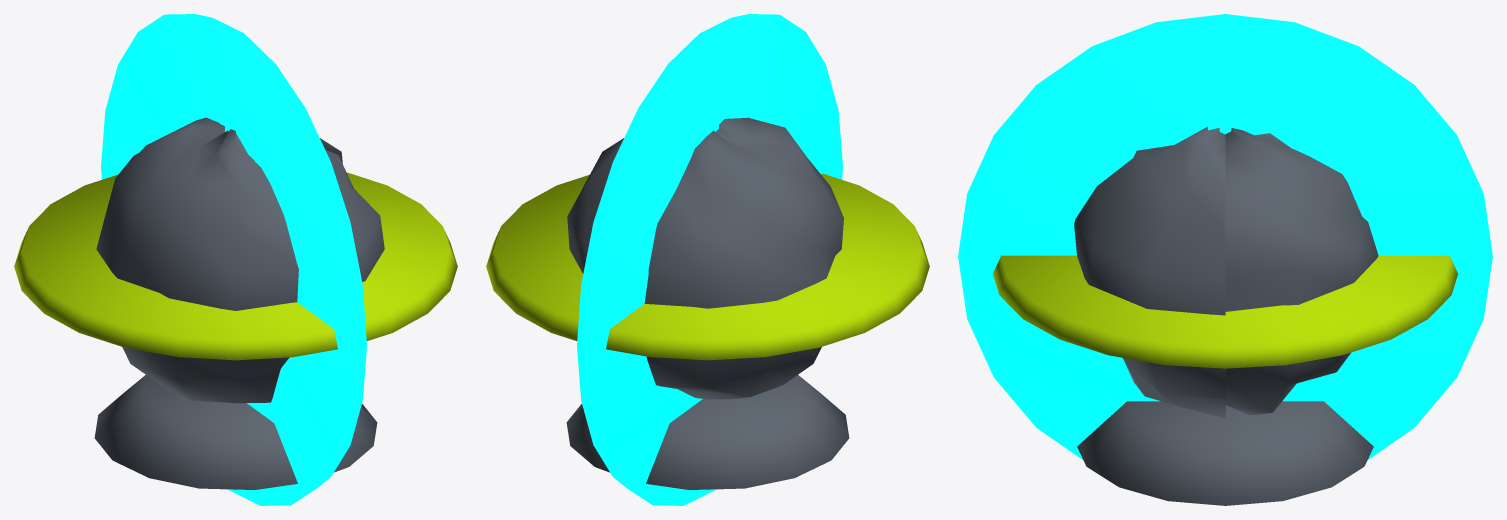
The picture shows the model from 3 angles, left to right: view 1: azimuth 30°, elevation 25°; view 2: azimuth 150°, elevation 25°; view 3: azimuth 270°, elevation 25°; orthographic projection. The views are drawn at different scales.
Visible parts, largest first — view 1: GeneratedObject3D; view 2: GeneratedObject3D; view 3: GeneratedObject3D.
Part boxes in pixels (x1,y1,x2,y2): GeneratedObject3D: [14, 14, 457, 505]; GeneratedObject3D: [486, 14, 929, 505]; GeneratedObject3D: [958, 14, 1492, 505].
Size of the model in its own units: 2.8 by 3.2 by 3.2.
